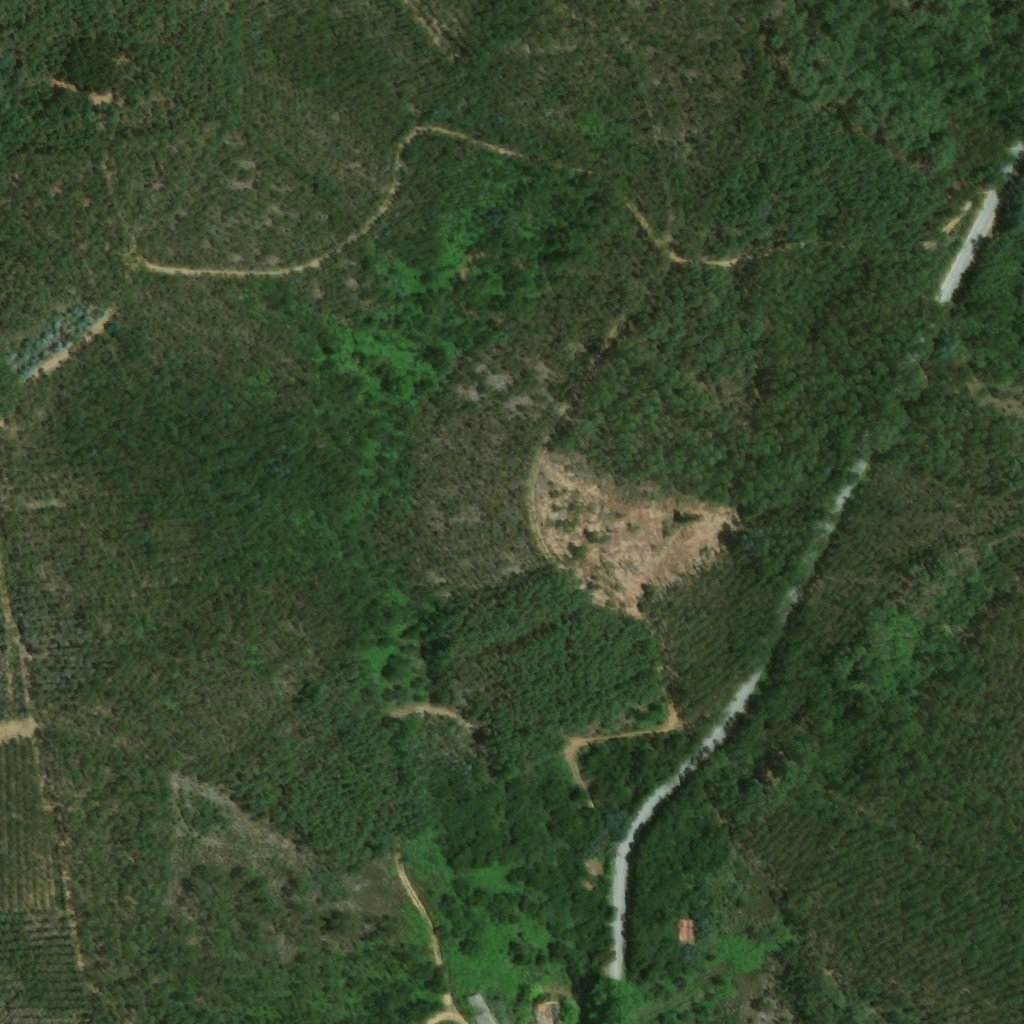0 no-damage: (460, 991, 499, 1023), (575, 857, 607, 892), (533, 995, 559, 1023), (677, 918, 695, 946)
